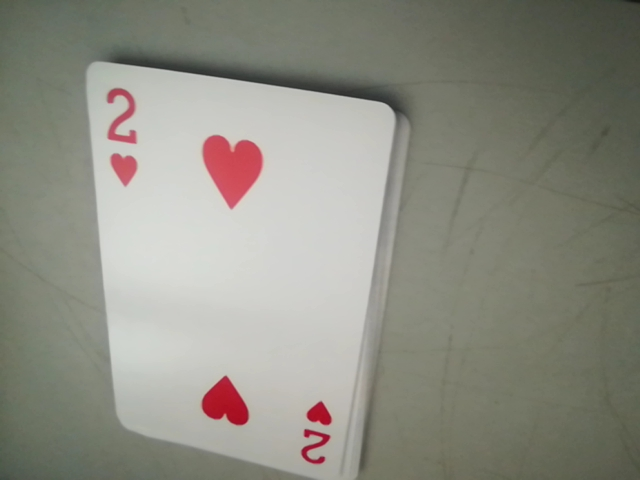hx 2: (292, 401, 344, 477)
